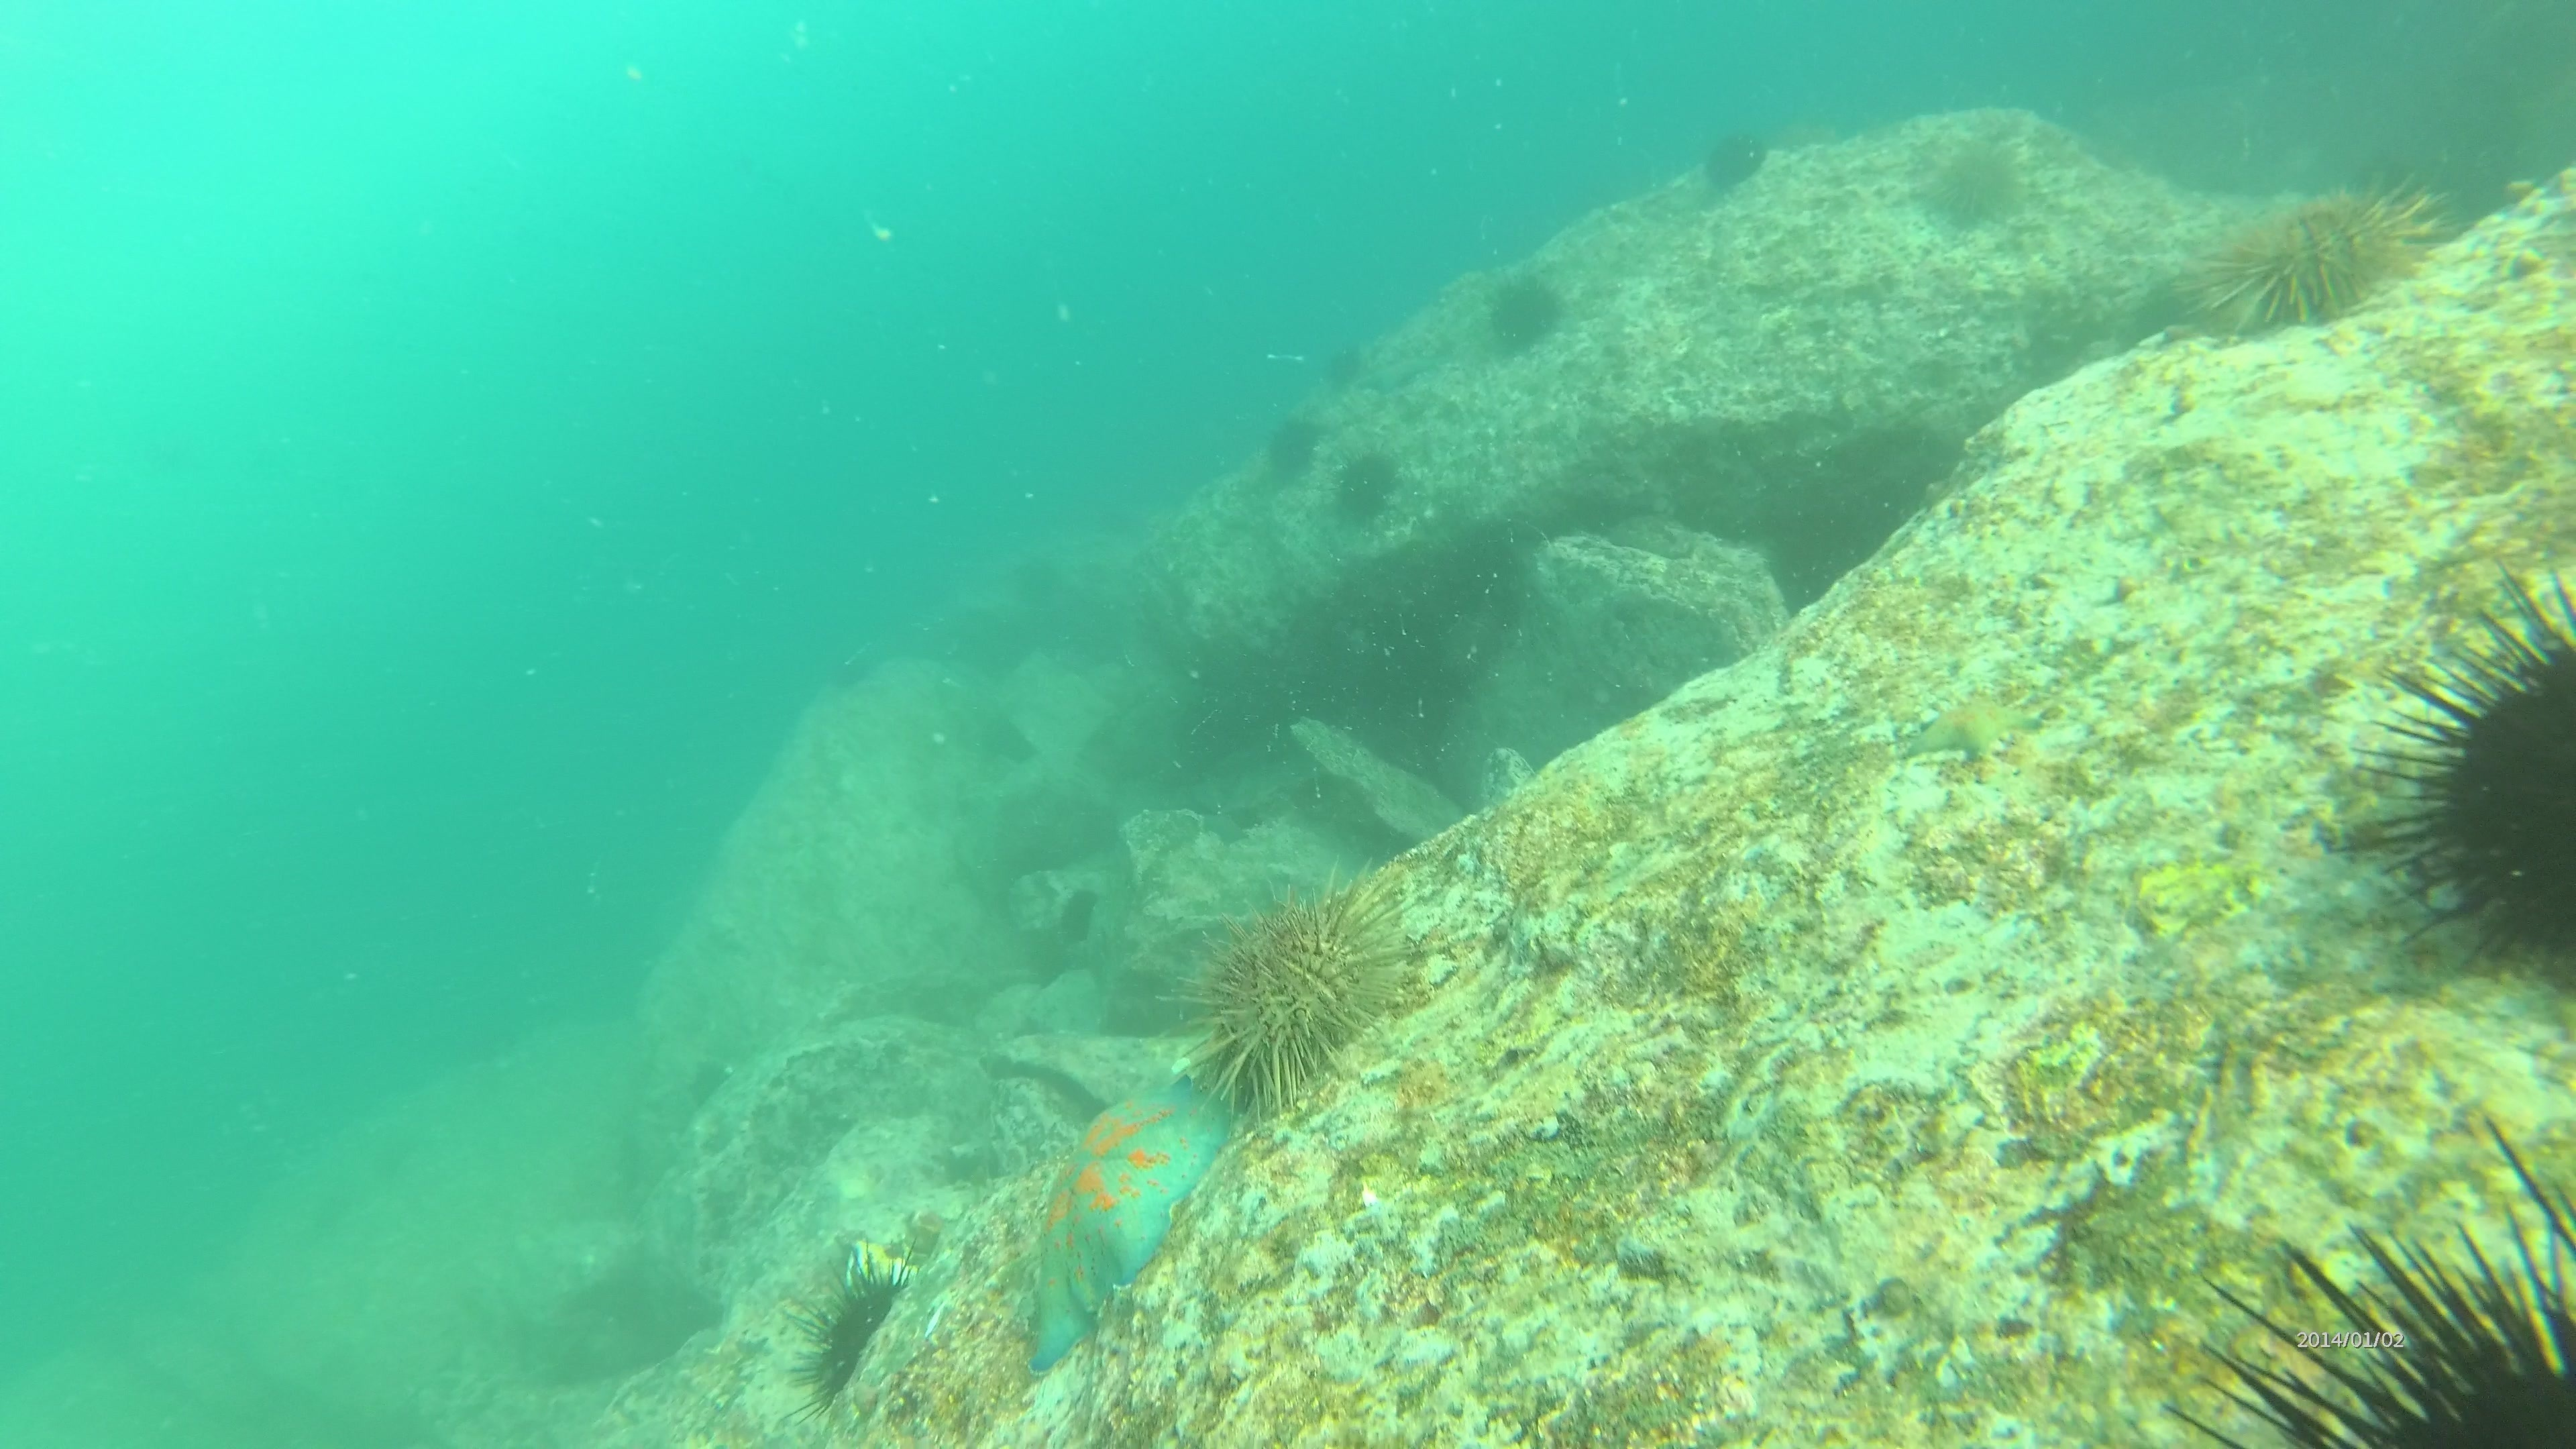echinus: (2189, 1118, 2572, 1438), (2353, 557, 2576, 985), (1175, 872, 1412, 1113), (2190, 168, 2449, 336), (782, 1251, 938, 1433), (1911, 126, 2035, 235), (1477, 265, 1569, 359), (1325, 442, 1407, 531), (1693, 122, 1773, 198), (1258, 409, 1327, 488), (1318, 336, 1371, 395)
starfish: (1014, 1070, 1242, 1375)
